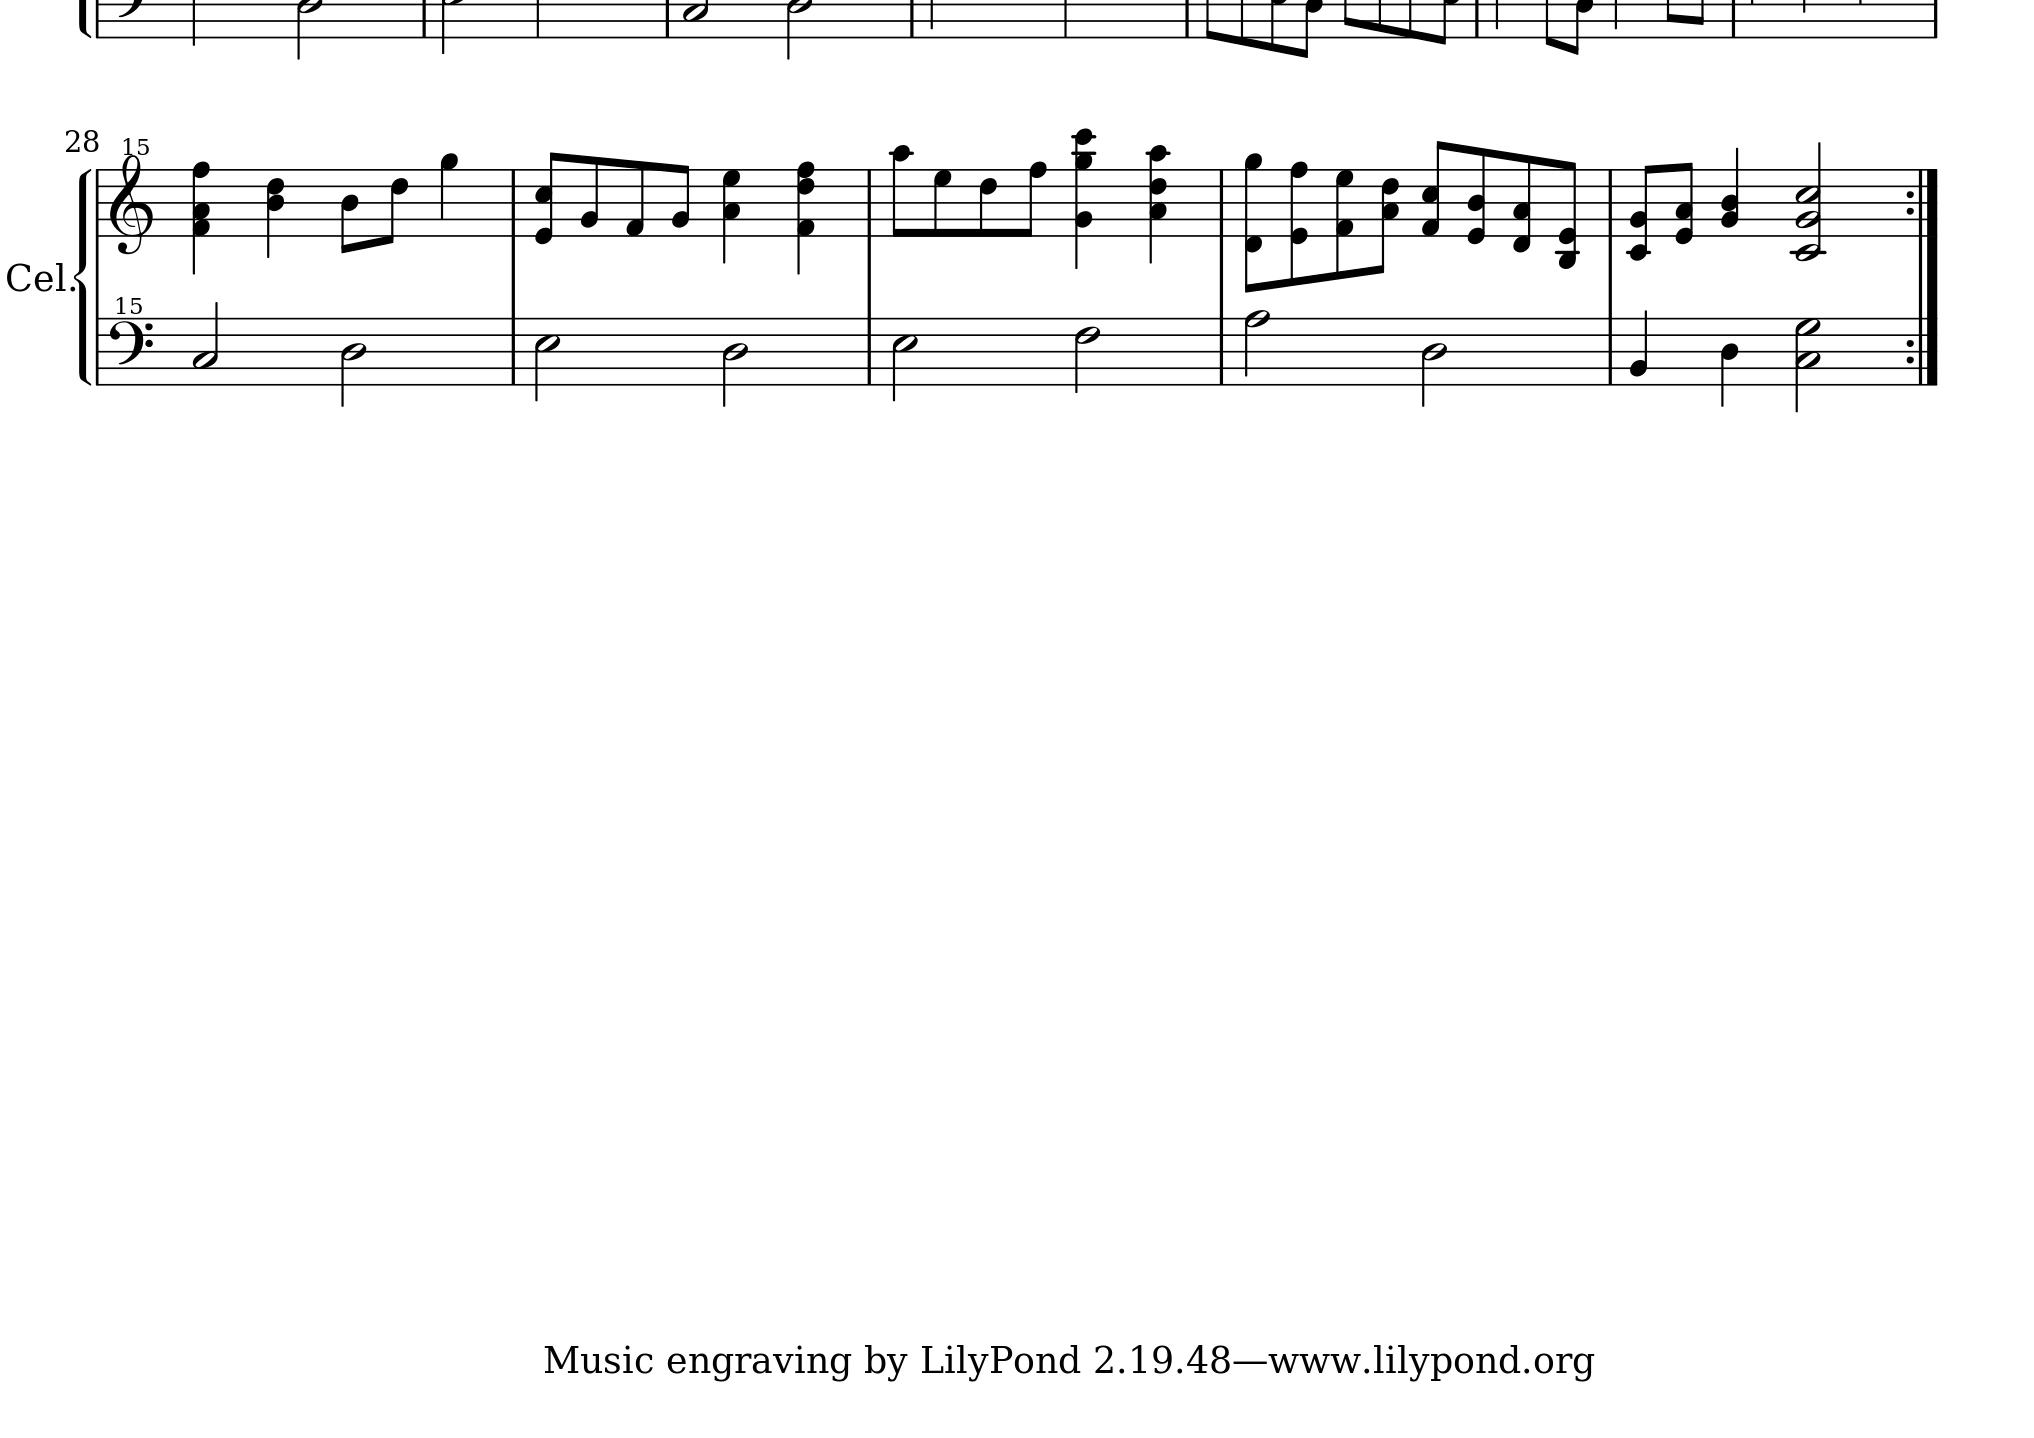2: (62, 128, 82, 154)
2_3: (191, 299, 219, 386)
2_3_7: (1794, 316, 1824, 411)
2_4: (1419, 314, 1447, 408), (339, 316, 367, 408), (721, 316, 749, 408)
2_5: (532, 316, 560, 403), (890, 316, 917, 403)
2_6: (1072, 316, 1100, 394)
2_8: (1242, 308, 1270, 388)
2_th: (1791, 140, 1829, 263)
4_2: (1628, 307, 1653, 388)
4_2_4: (1720, 148, 1741, 238)
4_3_7: (721, 167, 744, 265)
4_4: (1718, 314, 1741, 408)
4_4_6: (265, 167, 286, 261)
4_9: (437, 151, 459, 240)
4_th: (1069, 128, 1099, 268), (1144, 142, 1170, 265)
8: (82, 128, 100, 154)
8_-1_3: (1511, 153, 1533, 255)
8_-1_9: (1243, 153, 1265, 294)
8_-2_2: (1626, 163, 1656, 261)
8_-3_0: (1555, 159, 1581, 269)
8_0_3: (1675, 160, 1695, 246)
8_0_4: (1464, 145, 1489, 247)
8_0_5: (534, 151, 563, 246)
8_0_8: (1289, 160, 1310, 286)
8_1: (622, 159, 646, 240)
8_10: (890, 143, 914, 238)
8_1_5: (1419, 139, 1447, 237)
8_1_7: (1335, 167, 1355, 279)
8_2: (577, 154, 601, 238), (669, 162, 691, 238)
8_3_6: (1374, 167, 1401, 277)
8_4: (339, 167, 359, 255)
8_6: (380, 167, 409, 246), (977, 167, 999, 240)
8_7: (932, 167, 952, 238)
8_8: (1016, 159, 1047, 240)
Brace: (73, 163, 93, 388)
Cel: (5, 261, 65, 296)
DLower_Fclef: (107, 294, 156, 386)
DLower_Gclef: (109, 135, 153, 255)
RightRepeatSign: (1902, 167, 1942, 235), (1902, 317, 1942, 384)
Single_barline: (504, 168, 523, 237), (1212, 170, 1231, 237), (861, 170, 879, 235), (1601, 170, 1618, 237), (861, 317, 878, 384), (1601, 317, 1618, 384), (506, 317, 521, 384), (90, 317, 106, 384), (90, 170, 106, 235), (1214, 317, 1229, 383)
